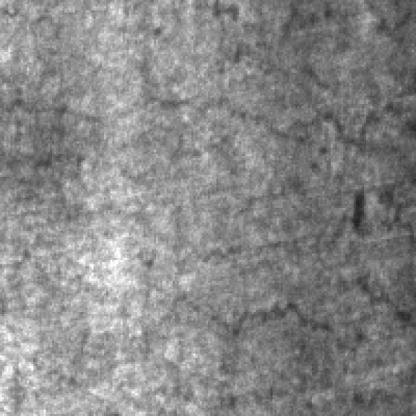crazing: (0, 96, 414, 204), (179, 208, 414, 350), (210, 0, 414, 90)
